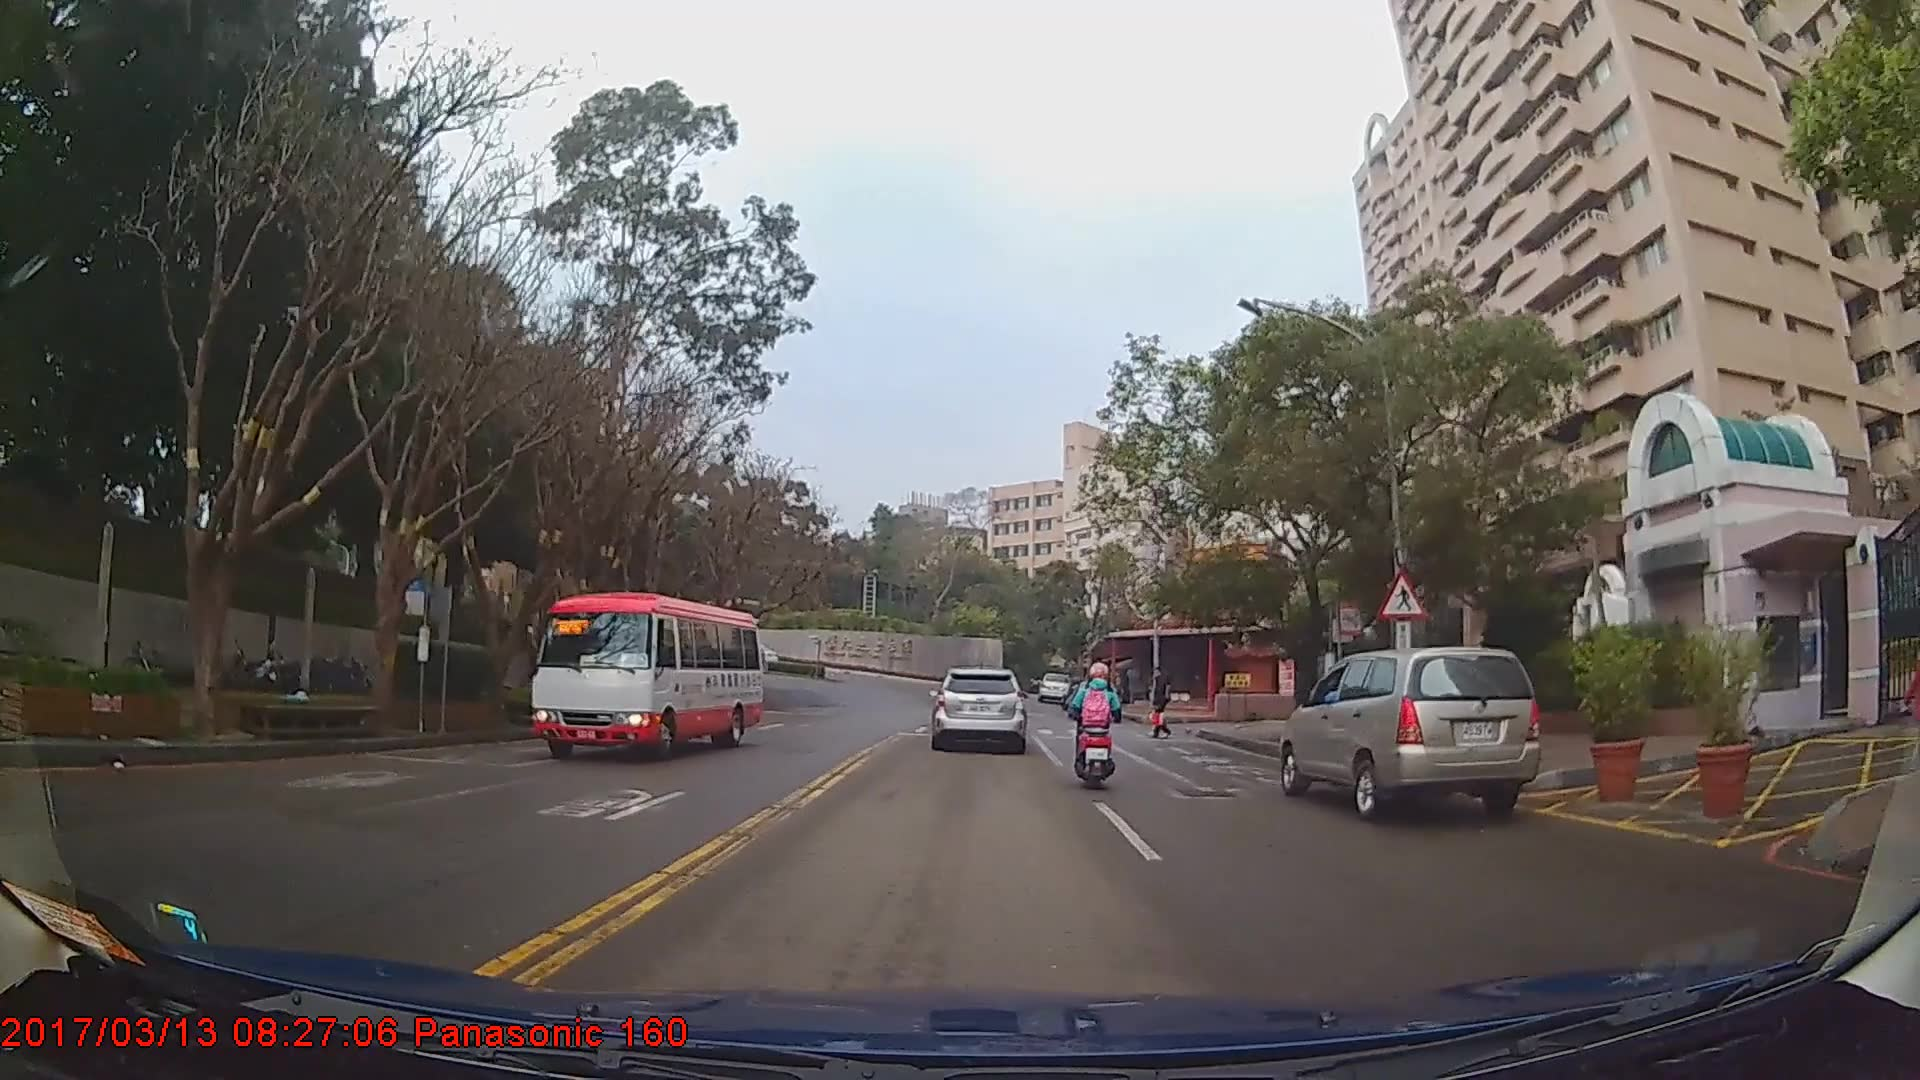pedestrian: (1148, 668, 1175, 745)
rider: (1068, 664, 1123, 794)
vehicle: (1279, 644, 1542, 820), (524, 593, 762, 761), (926, 667, 1026, 755), (1036, 673, 1070, 703)
